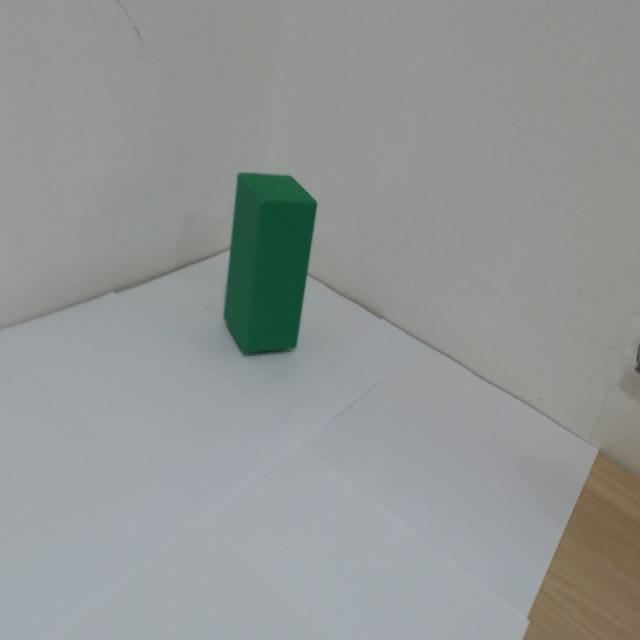cube: (193, 103, 355, 424)
